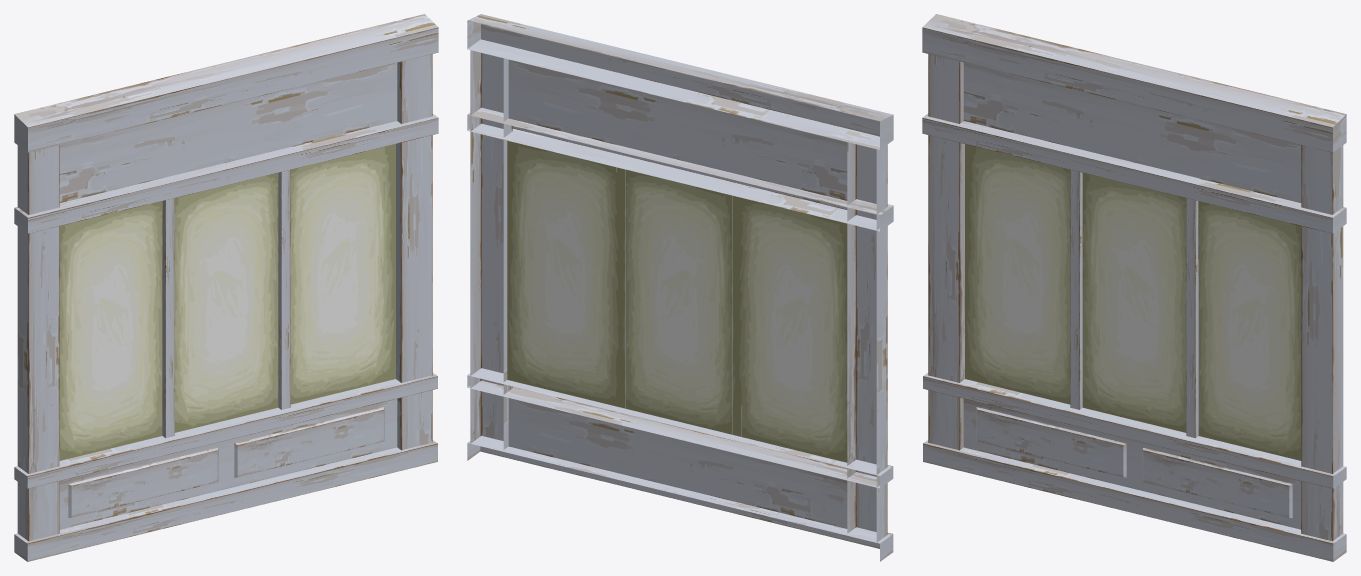
Rendered from MOD_Window_03_06.fbx.
3 views of the same model, side by side, from view 1: azimuth 30°, elevation 25°; view 2: azimuth 150°, elevation 25°; view 3: azimuth 330°, elevation 25° (orthographic).
Parts seen in each view (by area): view 1: MOD_Window_03_06; view 2: MOD_Window_03_06; view 3: MOD_Window_03_06.
Part boxes in pixels (x1,y1,x2,y2): MOD_Window_03_06: [14, 14, 438, 561]; MOD_Window_03_06: [467, 14, 893, 561]; MOD_Window_03_06: [922, 14, 1346, 561].
Size of the model in its own units: 392 by 400 by 22.79.
